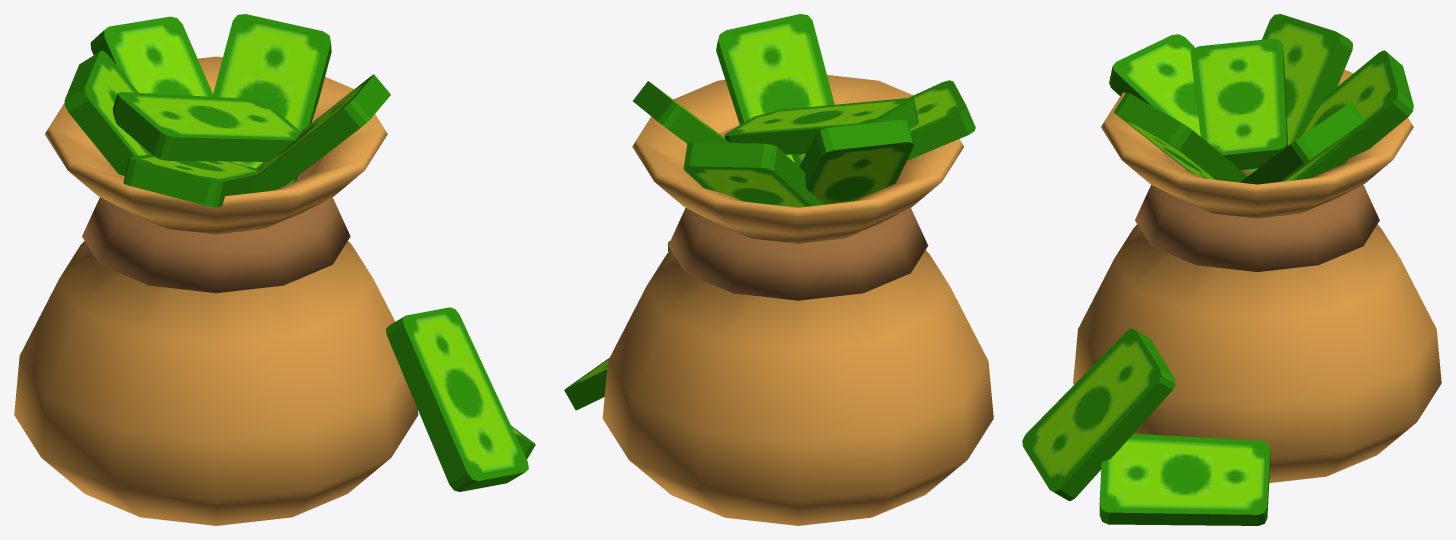
File: money.fbx
The picture shows the model from 3 angles, left to right: view 1: azimuth 30°, elevation 25°; view 2: azimuth 150°, elevation 25°; view 3: azimuth 270°, elevation 25°; orthographic projection. The views are drawn at different scales.
Visible parts, largest first — view 1: money; view 2: money; view 3: money.
Boxes of the visible parts, bbox=[...] form: money: bbox=[14, 14, 535, 525]; money: bbox=[564, 14, 993, 525]; money: bbox=[1022, 14, 1441, 525].
Size of the model in its own units: 117 by 107 by 112.
Materials: 1 (1 with a texture image).
